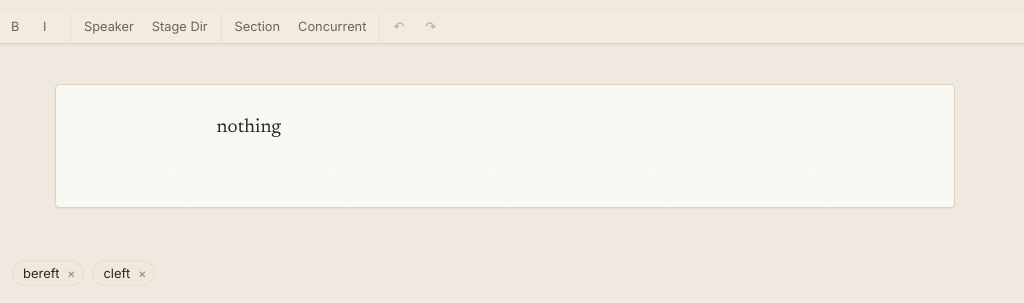
it: Inventory chips insert at the caret (C-42) › T-14.30: every chip inserts its own text
Click the button with test id "inventory-chip-insert" showing "cleft" at (117, 273), box x1=103 y1=265 x2=130 y2=282
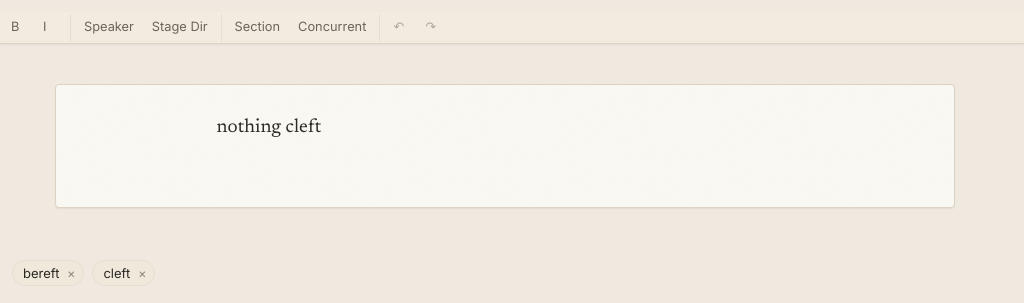
Expected: the text "bereft" is not shown
Now the field labelled "nothing cleft" is shown, box x1=54 y1=84 x2=954 y2=208
